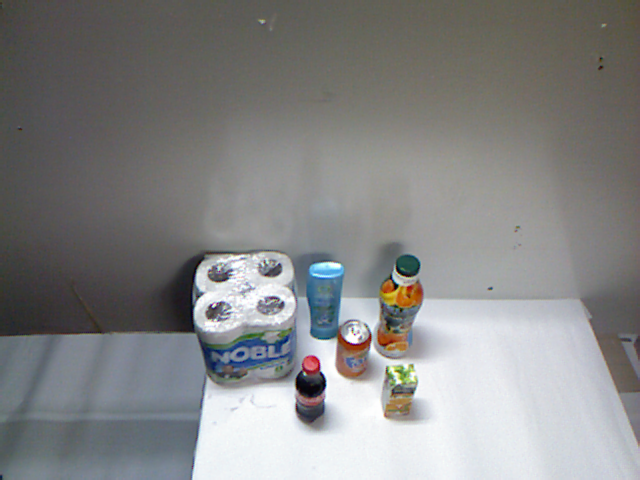borrador: (252, 373, 338, 421)
greda: (372, 322, 462, 404)
linterna: (307, 318, 370, 384)
pelota: (335, 355, 379, 398)
pepino: (306, 293, 438, 330)
sarten: (203, 289, 317, 449)
